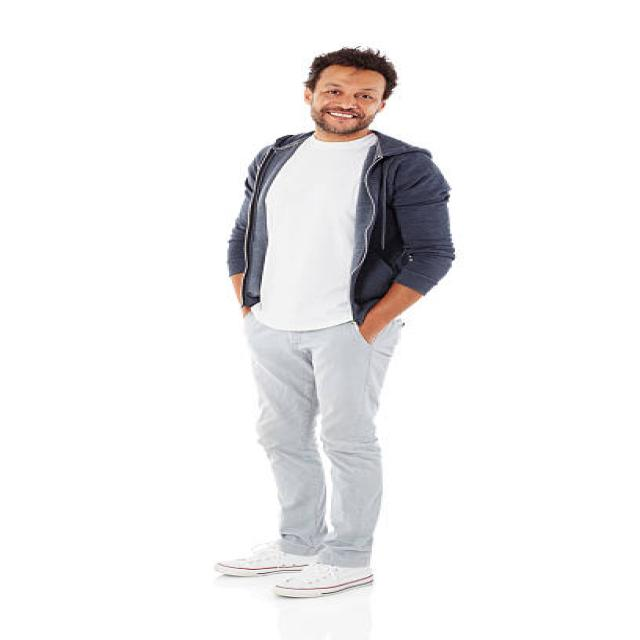Edited images: (175, 32, 501, 622)
